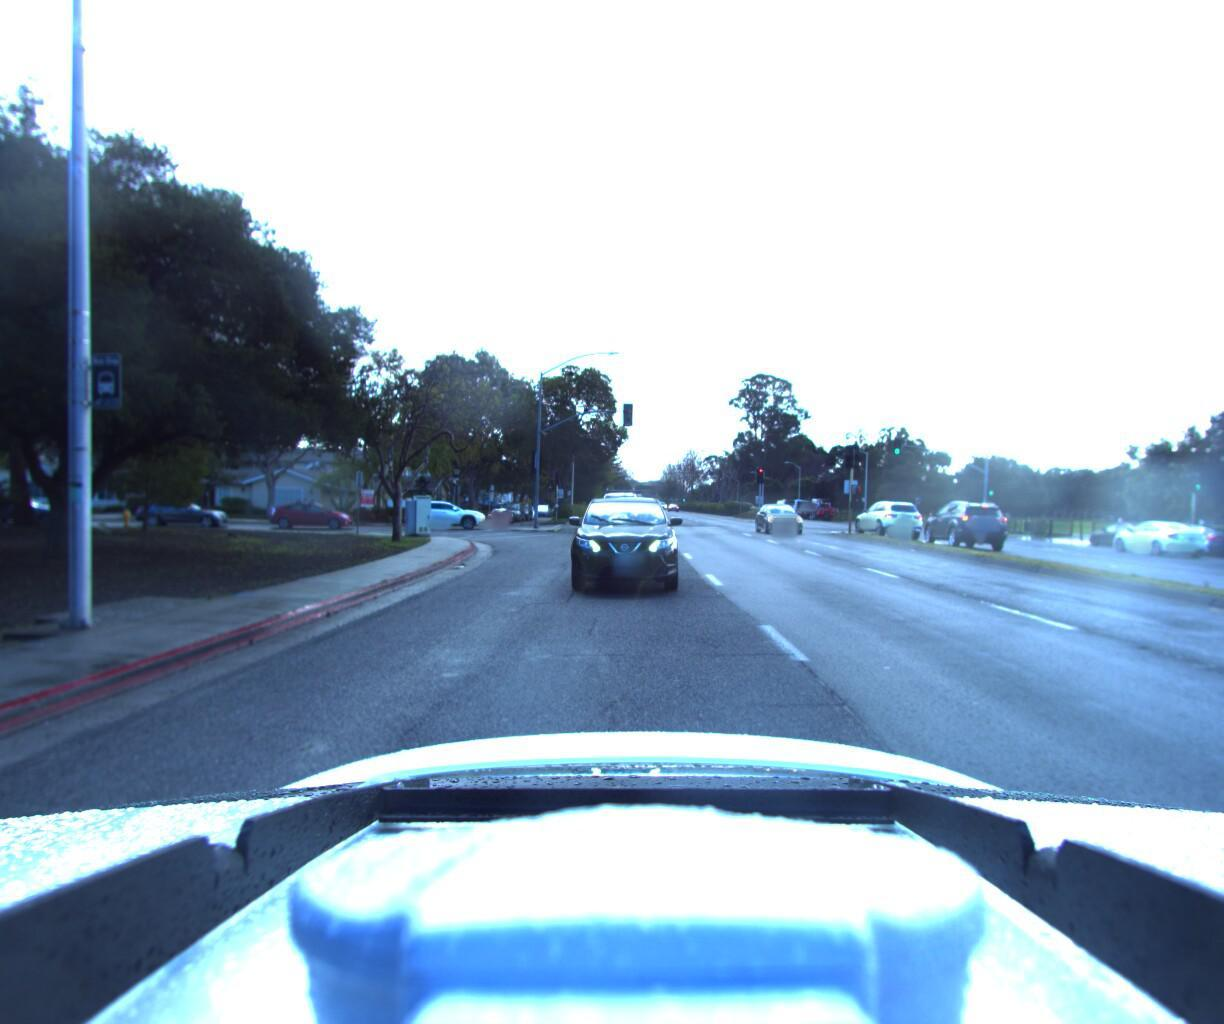car: (561, 501, 676, 602), (915, 509, 1015, 557), (1089, 524, 1190, 561), (1134, 527, 1224, 567), (844, 506, 918, 545), (261, 506, 351, 537), (399, 506, 481, 537), (129, 509, 228, 535), (594, 487, 645, 532), (754, 509, 809, 544), (477, 514, 508, 533)
